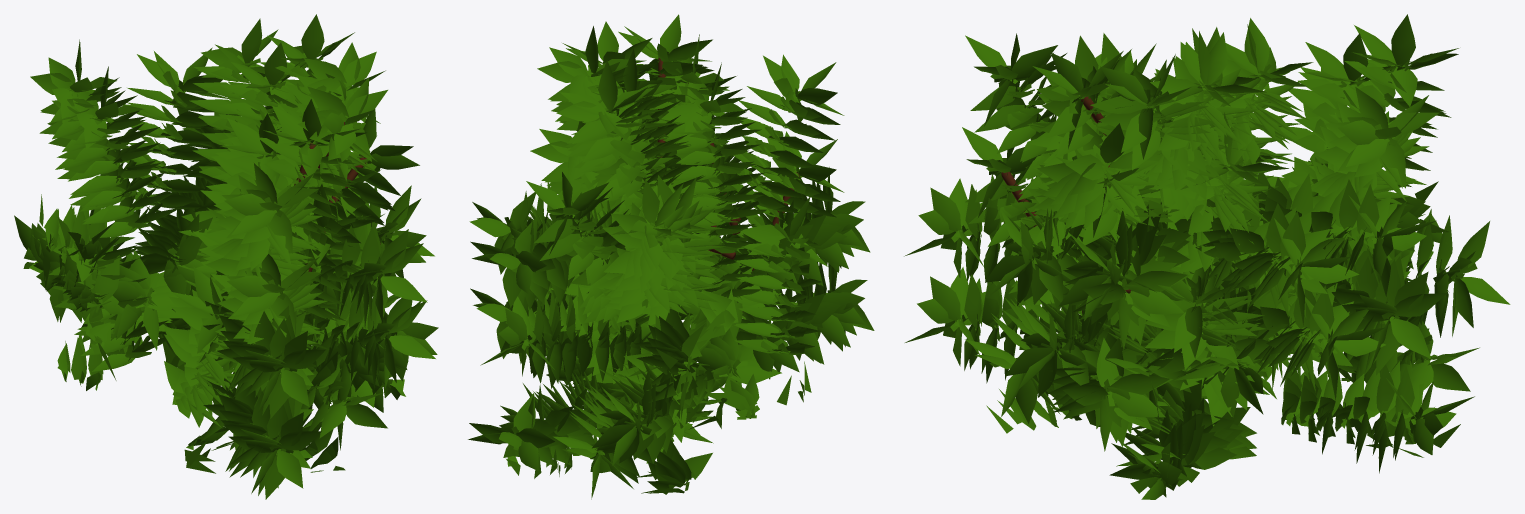
The model's file is New bush 1.fbx.
3 renders of one model, left to right at view 1: azimuth 30°, elevation 25°; view 2: azimuth 150°, elevation 25°; view 3: azimuth 270°, elevation 25°, orthographic. The views are drawn at different scales.
Parts seen in each view (by area): view 1: pasted__polySurface2065; view 2: pasted__polySurface2065; view 3: pasted__polySurface2065.
Boxes of the visible parts, x1,y1,x2,y2 form: pasted__polySurface2065: (14, 14, 438, 499); pasted__polySurface2065: (468, 14, 874, 499); pasted__polySurface2065: (904, 14, 1510, 499).
Size of the model in its own units: 1.19 by 1.56 by 1.96.
